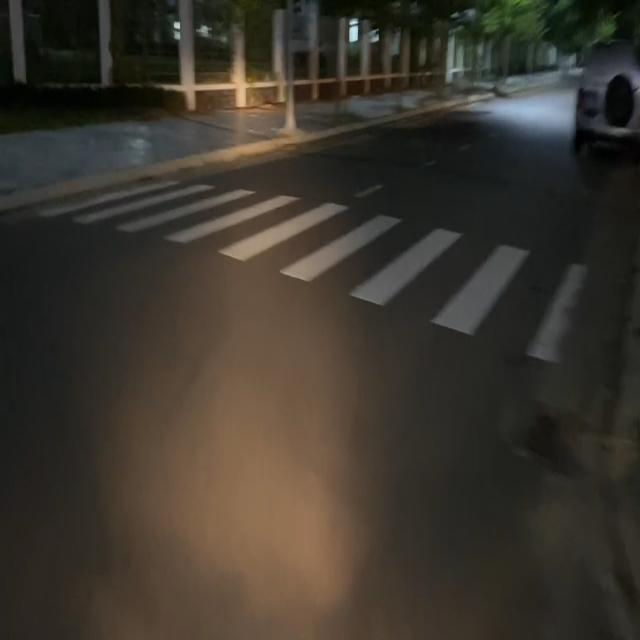walk-crossing: (36, 169, 590, 378)
